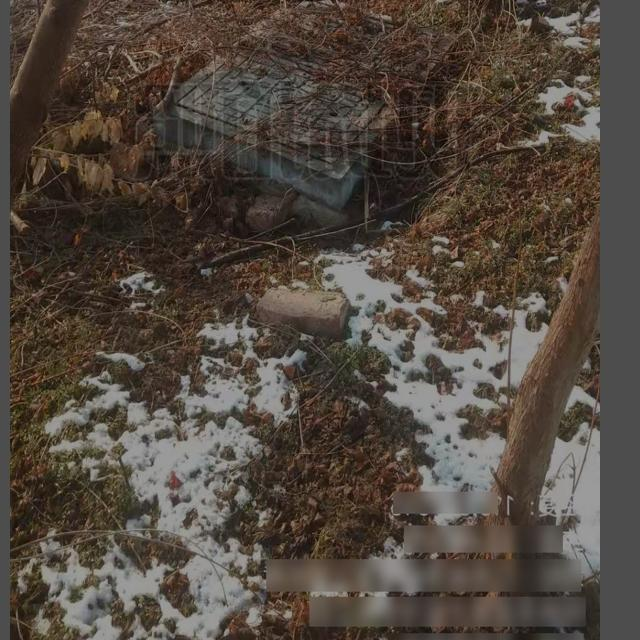circle: (150, 0, 456, 218)
